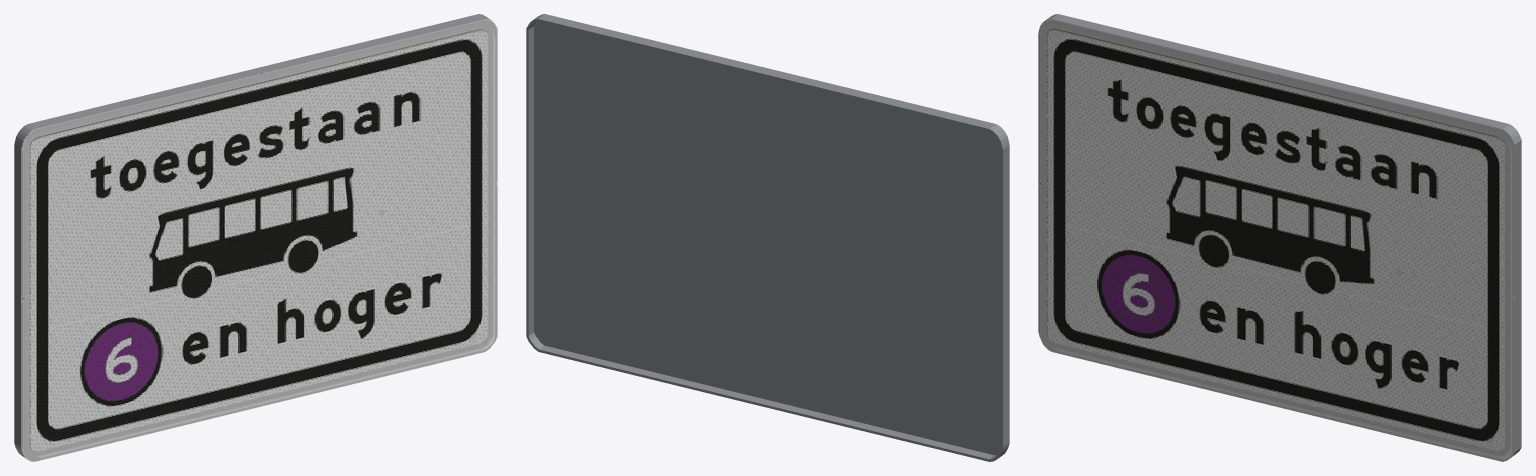
The picture shows the model from 3 angles, left to right: view 1: azimuth 30°, elevation 25°; view 2: azimuth 150°, elevation 25°; view 3: azimuth 330°, elevation 25°; orthographic projection.
Parts seen in each view (by area): view 1: cat_d2f626a5ab88b8b8; view 2: cat_d2f626a5ab88b8b8; view 3: cat_d2f626a5ab88b8b8.
Boxes of the visible parts, bbox=[...] form: cat_d2f626a5ab88b8b8: bbox=[14, 14, 497, 461]; cat_d2f626a5ab88b8b8: bbox=[526, 14, 1009, 461]; cat_d2f626a5ab88b8b8: bbox=[1038, 14, 1521, 461].
Bounding box in the file's own units: 0.6 × 0.015 × 0.4005.
Materials: 2 (1 with a texture image).
